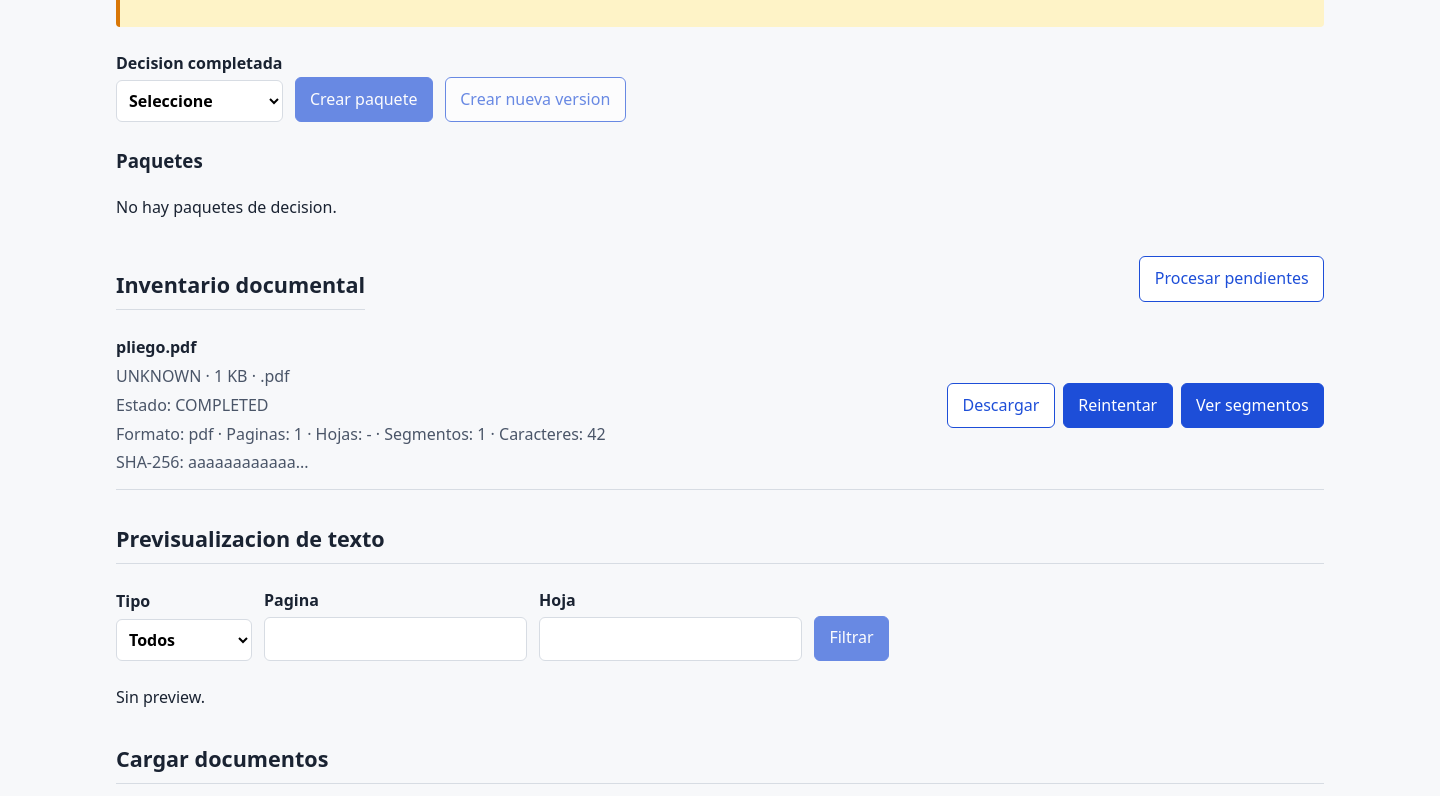
Test: detalle de proceso › muestra preview de segmentos como texto plano
(page scrolled)
Expected: the text "Estado: COMPLETED" is shown, [116,394,268,416]
Click the button "Ver segmentos".
click(1252, 406)  # box [1181,383,1324,428]
(page scrolled)
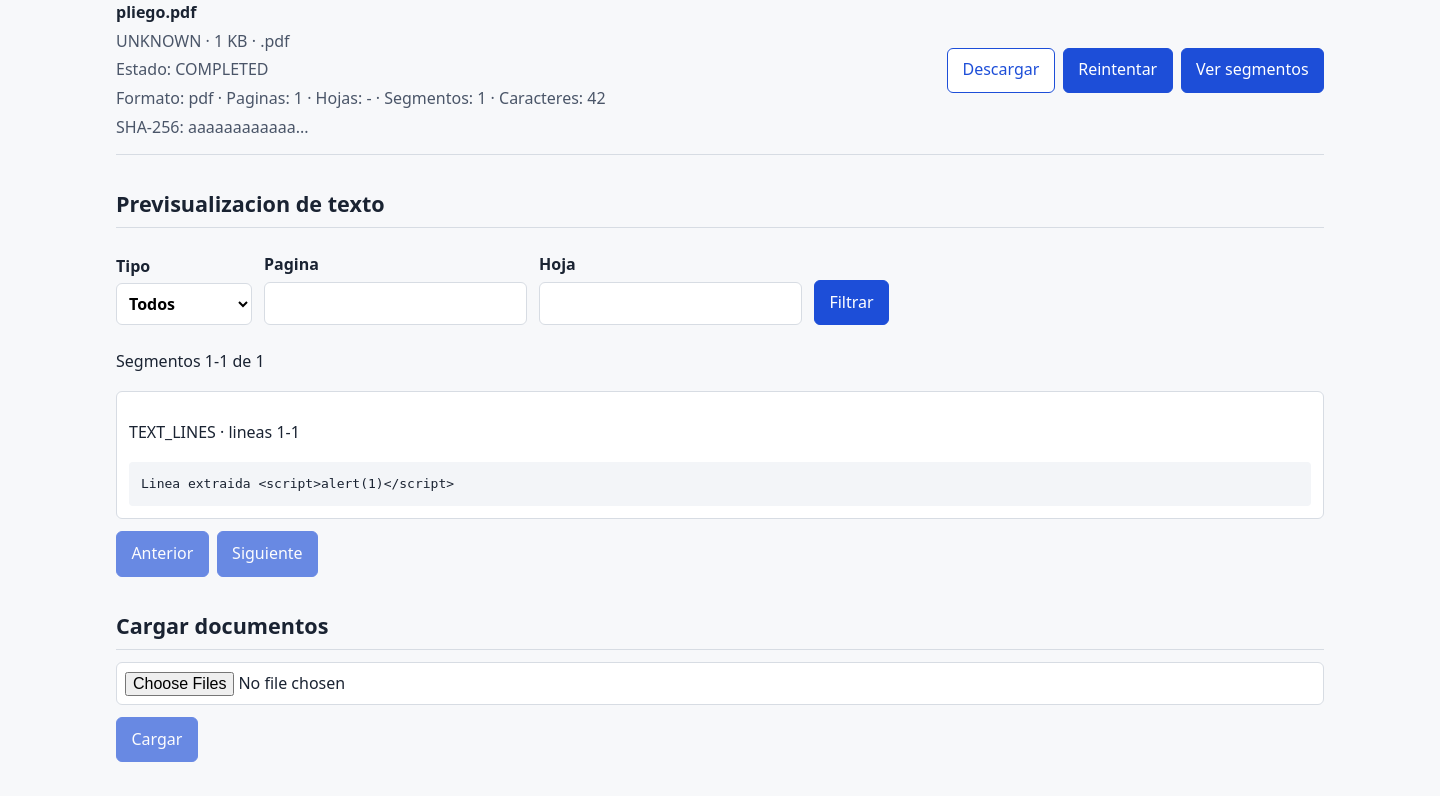
Result: the text "Segmentos 1-1 de 1" is shown at [116,350,265,372]
Result: the text "Linea extraida <script>alert(1)</script>" is shown at [129,462,1311,506]
